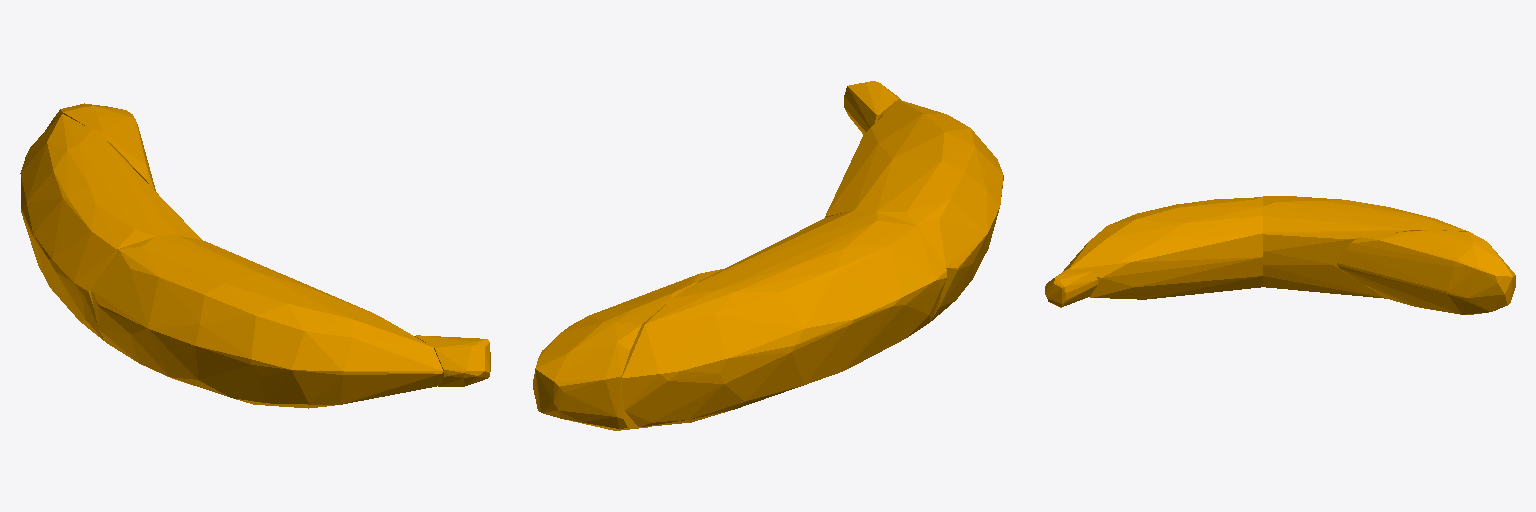
The robot description file, URDF, robot "donut":
<?xml version="1.0"?>
<robot name="donut">

  <link name="base_link">
    <visual>
      <geometry>
        <mesh filename="package://physical-experiment/downsampled4blender/Fbanana_vhacd.obj" scale="10 10 10"/>
      </geometry>
    </visual>
    <collision>
      <geometry>
        <mesh filename="package://physical-experiment/downsampled4blender/Fbanana_vhacd.obj" scale="10 10 10"/>
      </geometry>
    </collision>
  </link>

</robot>

--- Render facts (derived) ---
The picture shows the robot from 3 angles, left to right: view 1: azimuth 30°, elevation 25°; view 2: azimuth 150°, elevation 25°; view 3: azimuth 270°, elevation 25°; orthographic projection.
Robot: donut — 1 links, 0 joints (none); root link base_link; default pose: every joint at zero.
Visible links, largest first — view 1: base_link; view 2: base_link; view 3: base_link.
Boxes of the visible links, x1,y1,x2,y2 form: base_link: (20,103,490,408); base_link: (533,81,1003,430); base_link: (1045,196,1515,314).
Bounding box of the posed robot: 0.5424 × 1.35 × 0.2406 m (x, y, z).
Meshes: 1 distinct files referenced, 1 mesh visuals loaded (1 OBJ).